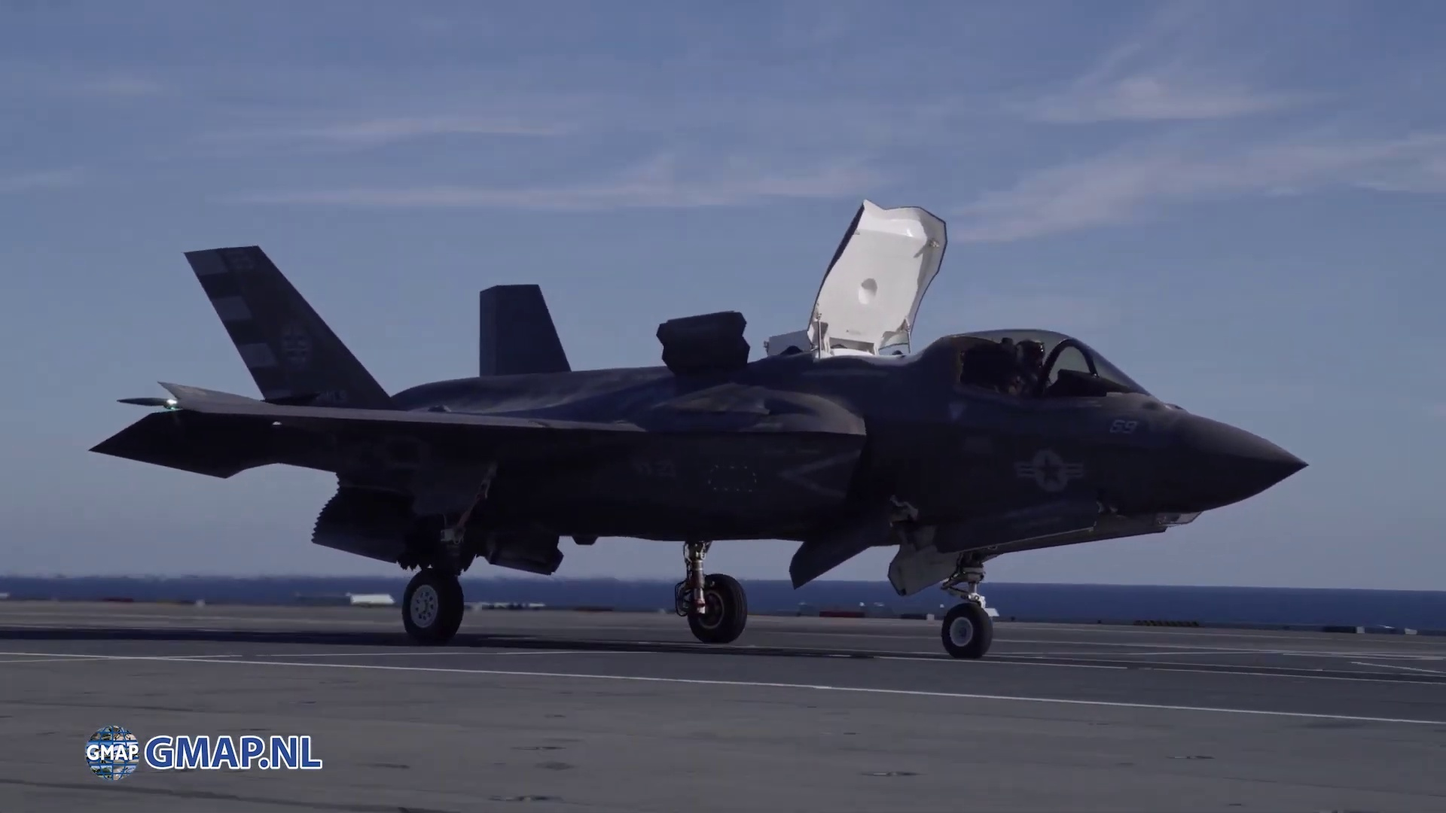F35: (73, 191, 1318, 667)
